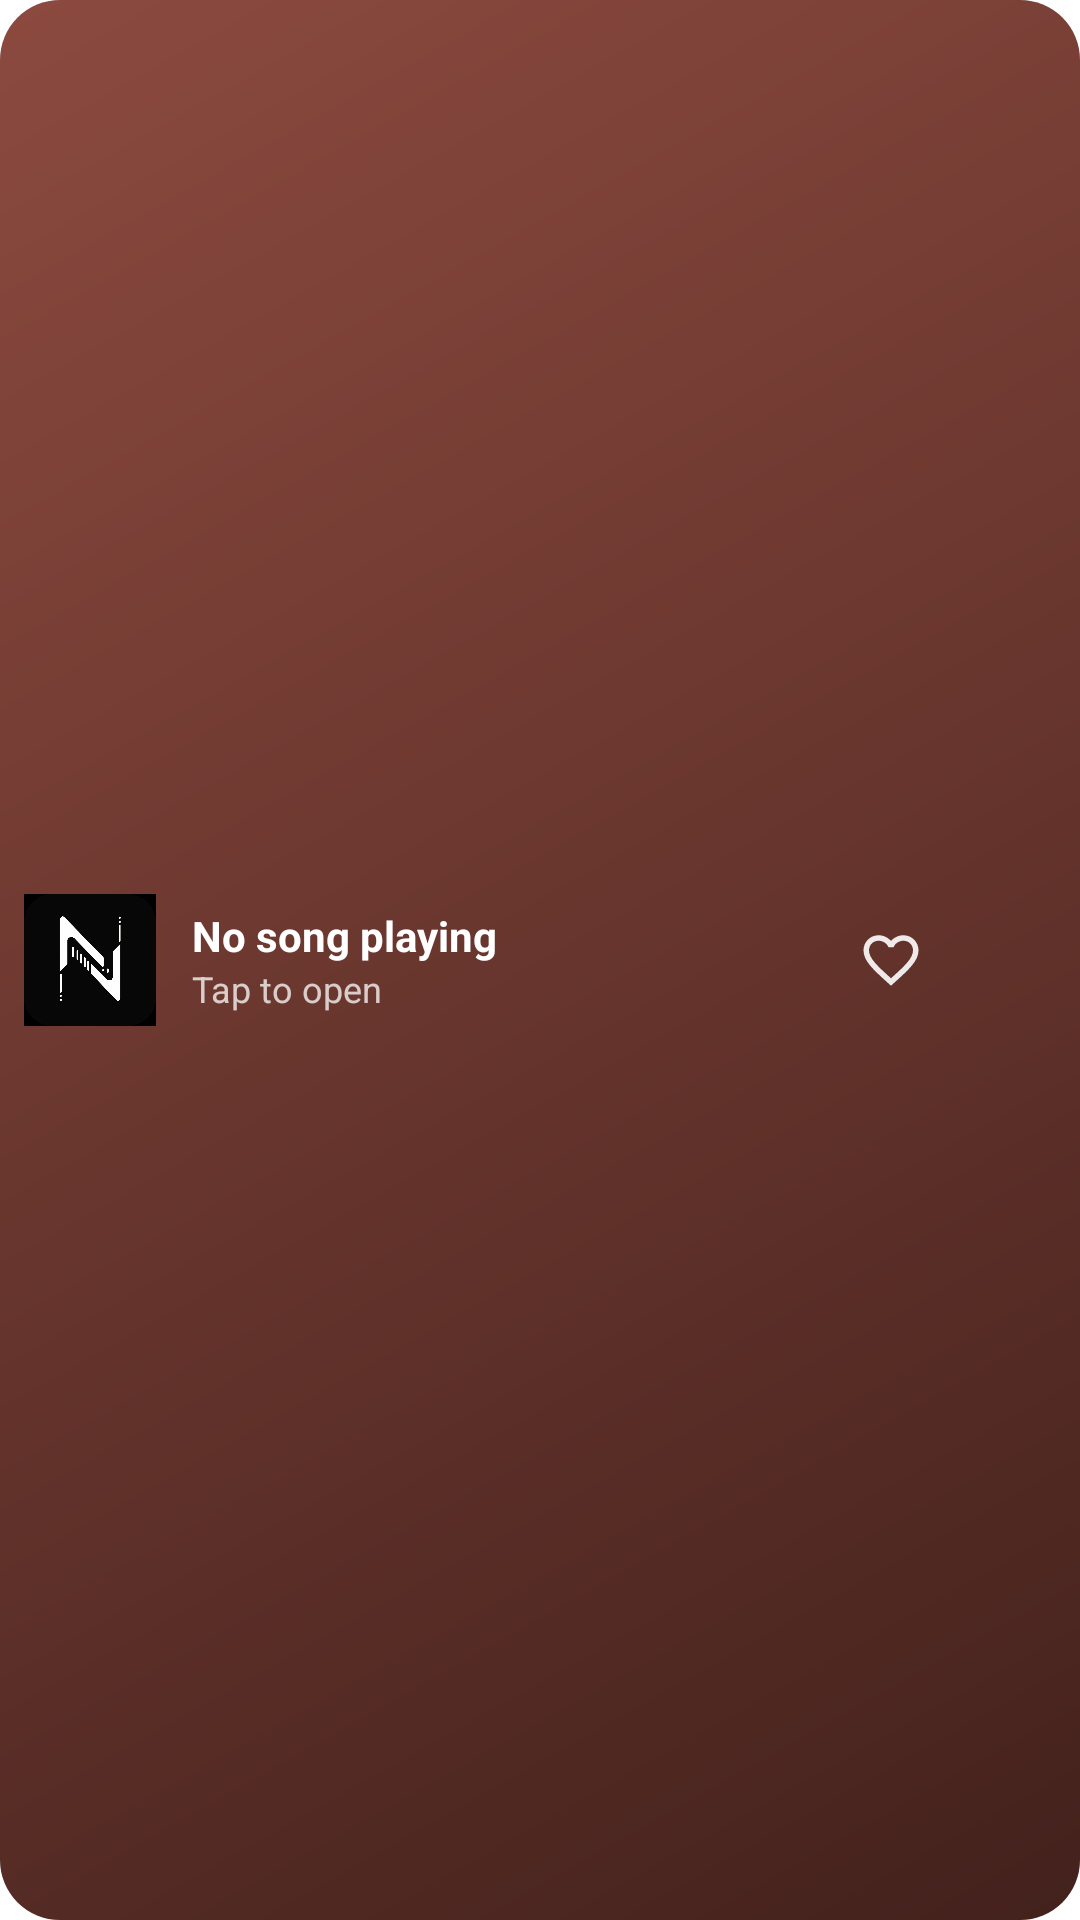

Screen size 1080×1920. Icon name, then its box in pixels as (x1, y1, x2, y2):
Like: (863, 935, 919, 986)
